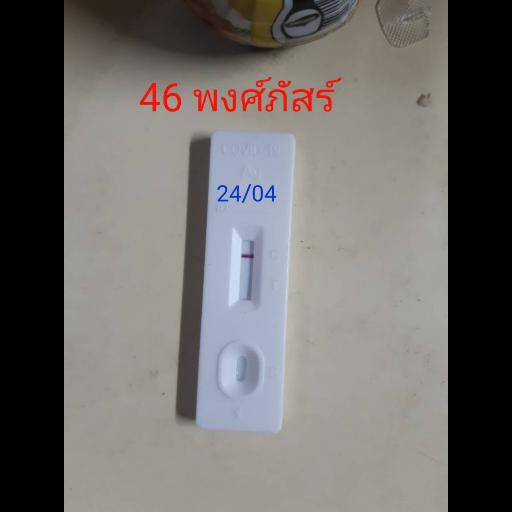Neg: (194, 131, 296, 435)
